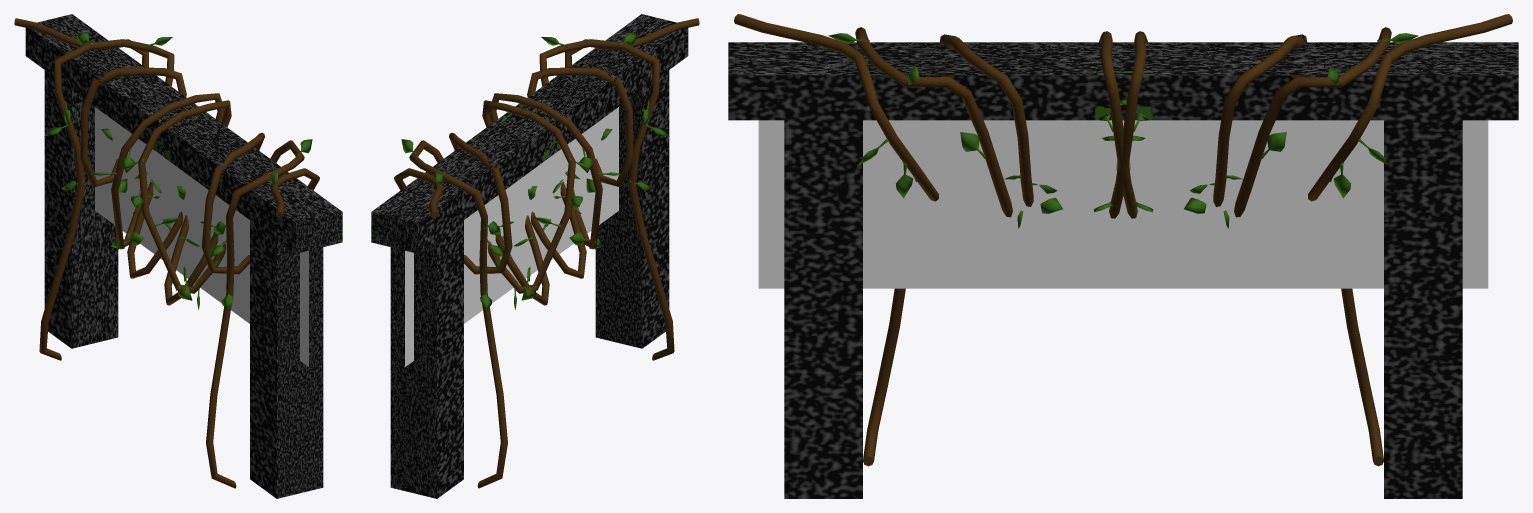
File: arch.fbx
3 views of the same model, side by side, from view 1: azimuth 30°, elevation 25°; view 2: azimuth 150°, elevation 25°; view 3: azimuth 270°, elevation 25° (orthographic). The views are drawn at different scales.
Parts seen in each view (by area): view 1: Plane.002, Plane.003; view 2: Plane.002, Plane.003; view 3: Plane.002, Plane.003.
Boxes of the visible parts, box(x1,y1,x2,y2) form: Plane.002: box(14, 14, 342, 498); Plane.003: box(95, 107, 308, 366); Plane.002: box(371, 14, 699, 498); Plane.003: box(405, 107, 618, 366); Plane.002: box(728, 14, 1518, 498); Plane.003: box(758, 120, 1488, 288).
Bounding box in the file's own units: 226 × 520 × 809.
1 material, 1 textured.
